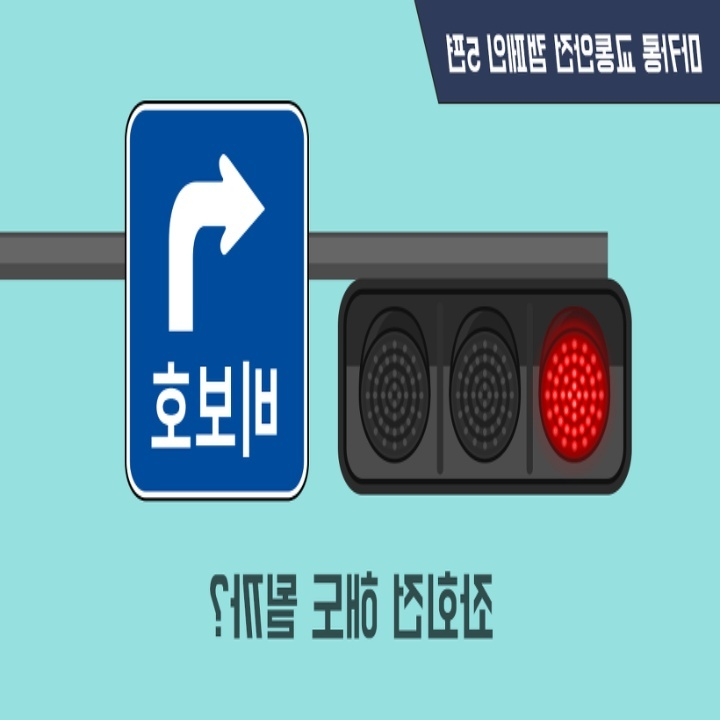right: (156, 148, 272, 334)
